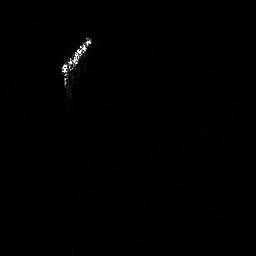ship: (59, 37, 92, 95)
